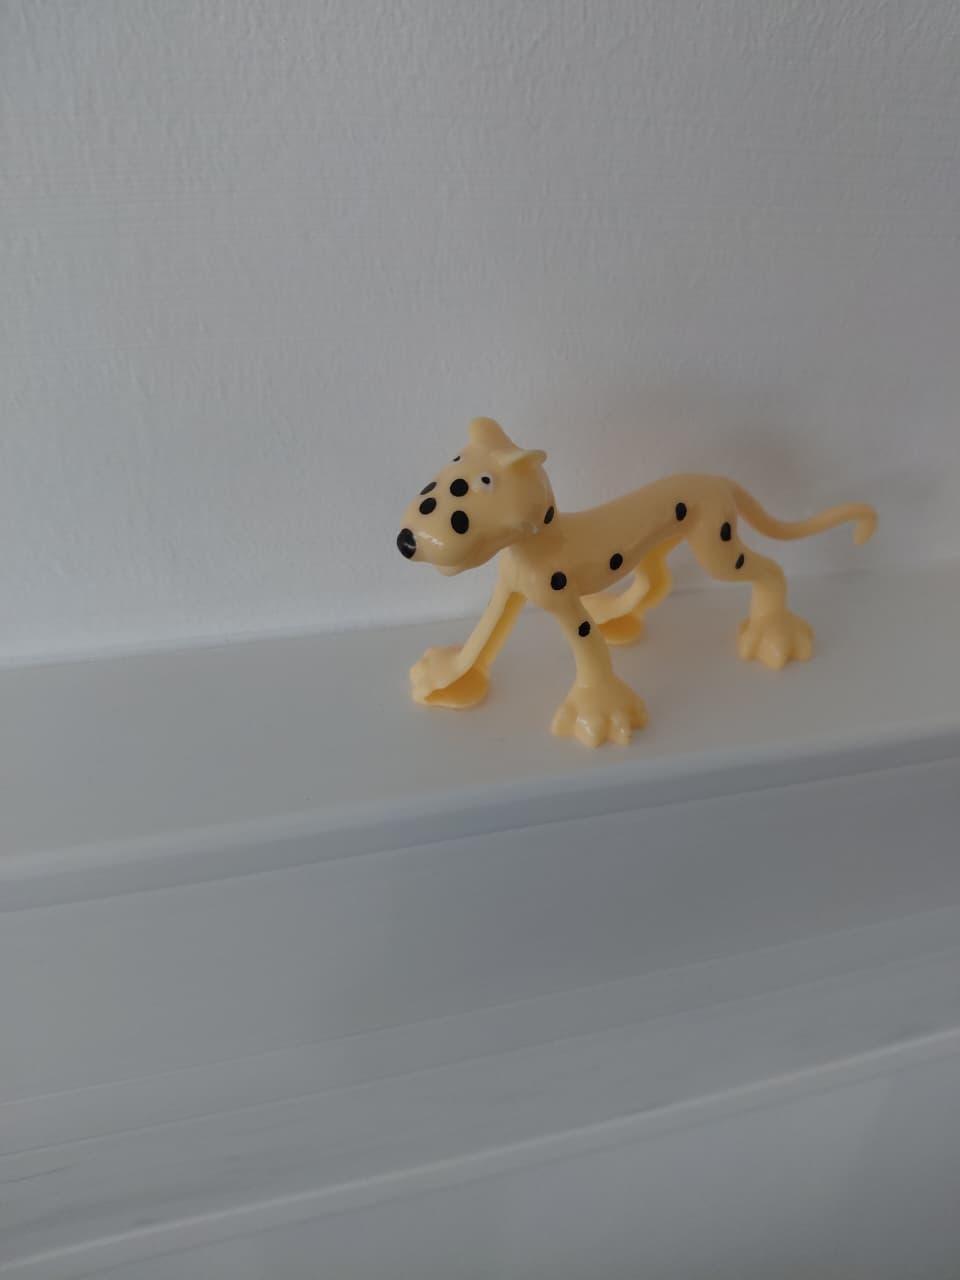cheetah: (382, 405, 924, 817)
